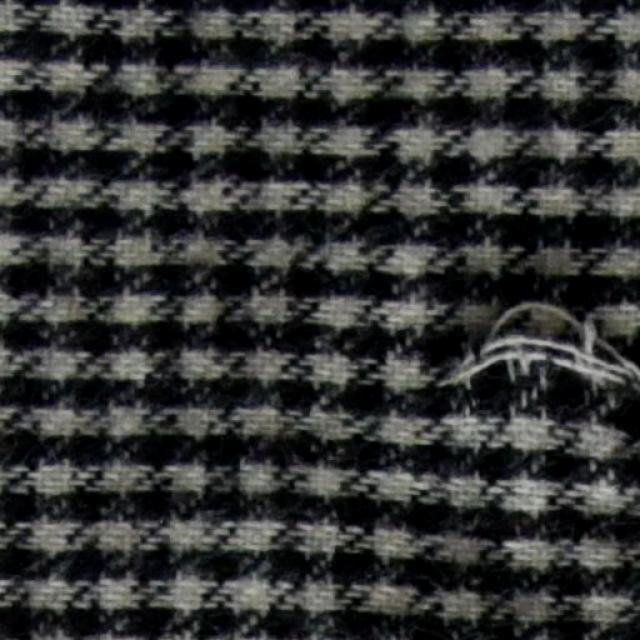Snag: (420, 270, 639, 431)
